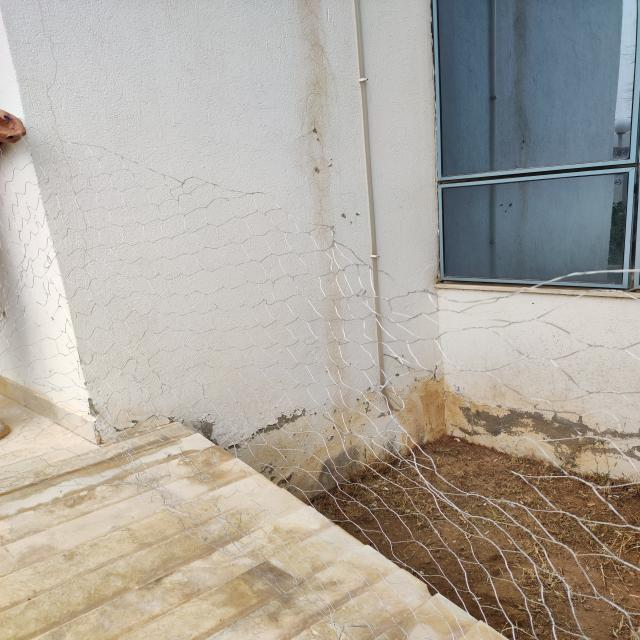fence line: (270, 175, 616, 289), (408, 375, 548, 501)
